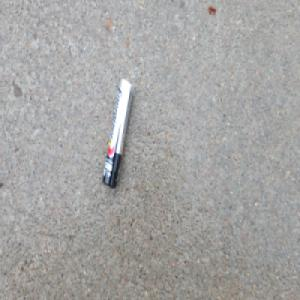Battery: (102, 77, 133, 189)
